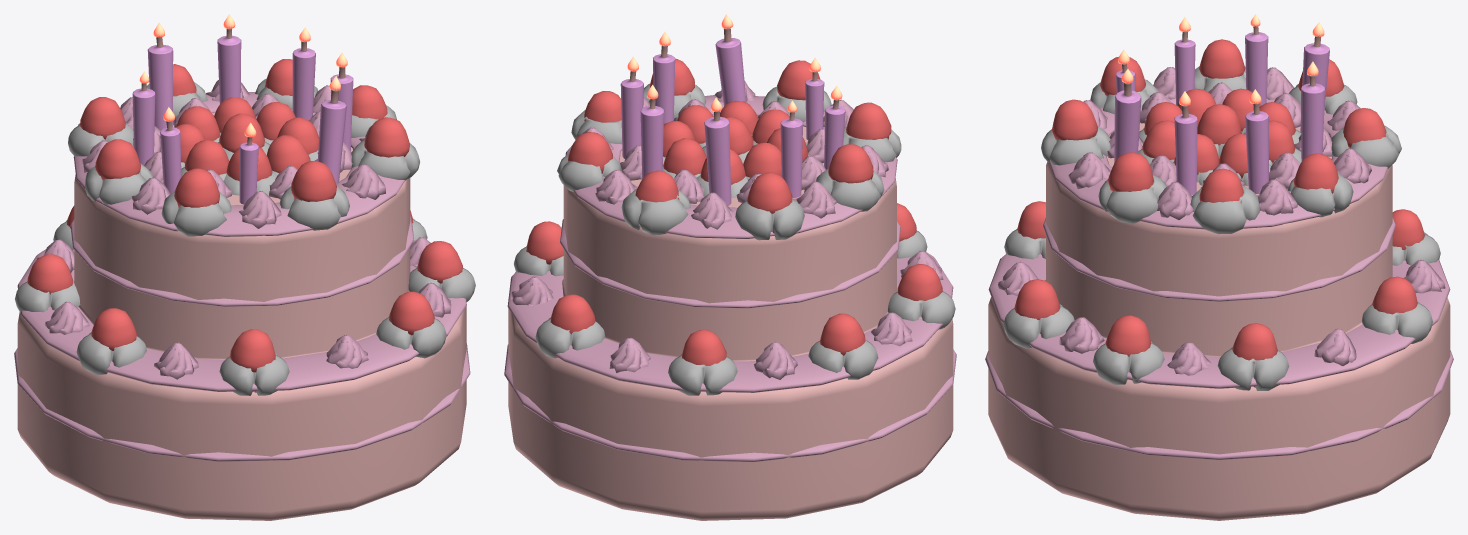
The model's file is cake.glb.
3 views of the same model, side by side, from view 1: azimuth 30°, elevation 25°; view 2: azimuth 150°, elevation 25°; view 3: azimuth 270°, elevation 25° (orthographic). The views are drawn at different scales.
Visible parts, largest first — view 1: pCylinder67, pTorus5, pTorus6, pTorus9, pTorus8, pCylinder76, pCylinder99, pCylinder83, pCylinder75, pCylinder95, pCylinder84, pCylinder82 (+41 smaller); view 2: pCylinder67, pTorus5, pTorus6, pTorus9, pTorus8, pCylinder71, pCylinder95, pCylinder70, pCylinder78, pCylinder85, pCylinder99, pCylinder79 (+47 smaller); view 3: pCylinder67, pTorus5, pTorus9, pTorus6, pTorus8, pCylinder73, pCylinder80, pCylinder81, pCylinder74, pCylinder97, pCylinder79, pCylinder82 (+50 smaller).
Boxes of the visible parts, bbox=[...] form: pCylinder67: bbox=[17, 112, 466, 520]; pTorus5: bbox=[17, 249, 466, 391]; pTorus6: bbox=[73, 92, 405, 236]; pTorus9: bbox=[14, 343, 470, 461]; pTorus8: bbox=[70, 216, 414, 306]; pCylinder76: bbox=[161, 191, 231, 236]; pCylinder99: bbox=[318, 90, 346, 183]; pCylinder83: bbox=[219, 353, 289, 395]; pCylinder75: bbox=[279, 186, 349, 230]; pCylinder95: bbox=[147, 37, 173, 130]; pCylinder84: bbox=[76, 332, 146, 375]; pCylinder82: bbox=[376, 316, 446, 358]; pCylinder67: bbox=[508, 115, 953, 520]; pTorus5: bbox=[507, 251, 953, 392]; pTorus6: bbox=[565, 95, 897, 238]; pTorus9: bbox=[504, 344, 956, 461]; pTorus8: bbox=[560, 219, 900, 308]; pCylinder71: bbox=[621, 189, 690, 235]; pCylinder95: bbox=[704, 111, 731, 205]; pCylinder70: bbox=[735, 199, 804, 240]; pCylinder78: bbox=[668, 354, 737, 395]; pCylinder85: bbox=[808, 339, 878, 379]; pCylinder99: bbox=[715, 28, 746, 105]; pCylinder79: bbox=[535, 317, 605, 358]; pCylinder67: bbox=[988, 122, 1450, 520]; pTorus5: bbox=[988, 253, 1450, 388]; pTorus9: bbox=[985, 350, 1453, 459]; pTorus6: bbox=[1048, 95, 1388, 229]; pTorus8: bbox=[1043, 217, 1395, 301]; pCylinder73: bbox=[1190, 185, 1260, 234]; pCylinder80: bbox=[1217, 347, 1289, 390]; pCylinder81: bbox=[1093, 342, 1164, 384]; pCylinder74: bbox=[1098, 175, 1166, 223]; pCylinder97: bbox=[1245, 103, 1268, 194]; pCylinder79: bbox=[1362, 301, 1432, 343]; pCylinder82: bbox=[1003, 304, 1074, 348].
Size of the model in its own units: 0.0609 by 0.056 by 0.0609.
